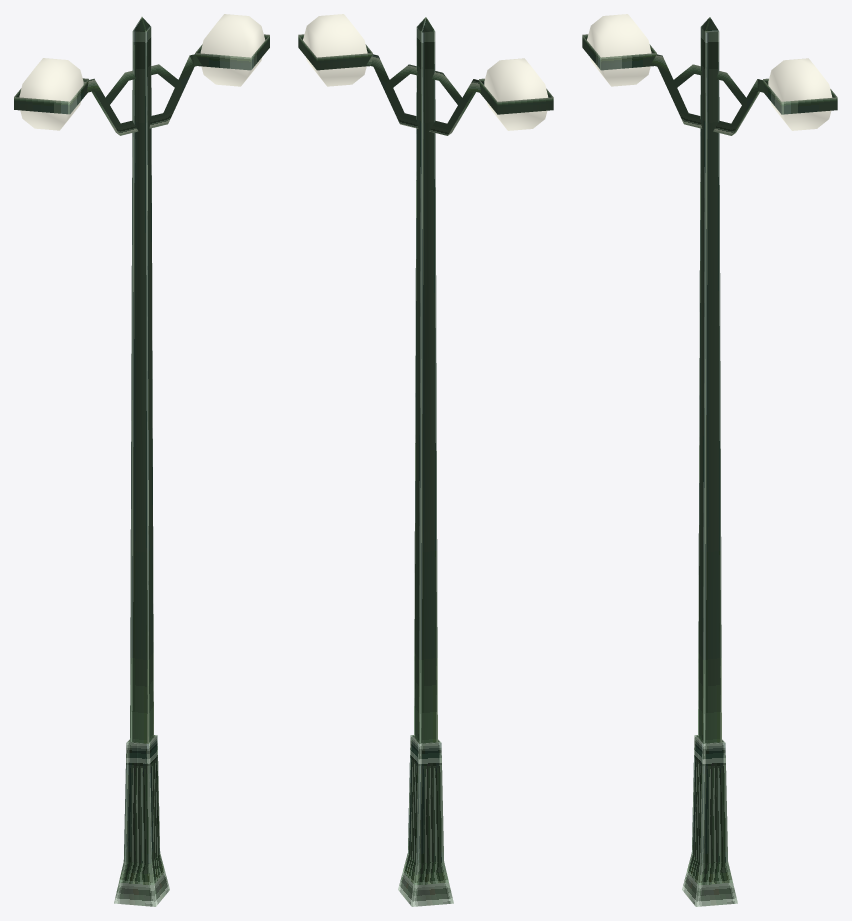
Rendered from stage-prin-p6-12.glb.
3 renders of one model, left to right at view 1: azimuth 30°, elevation 25°; view 2: azimuth 150°, elevation 25°; view 3: azimuth 330°, elevation 25°, orthographic.
Size of the model in its own units: 2.12 by 6.97 by 0.5394.
Materials: 3 (3 with a texture image).
